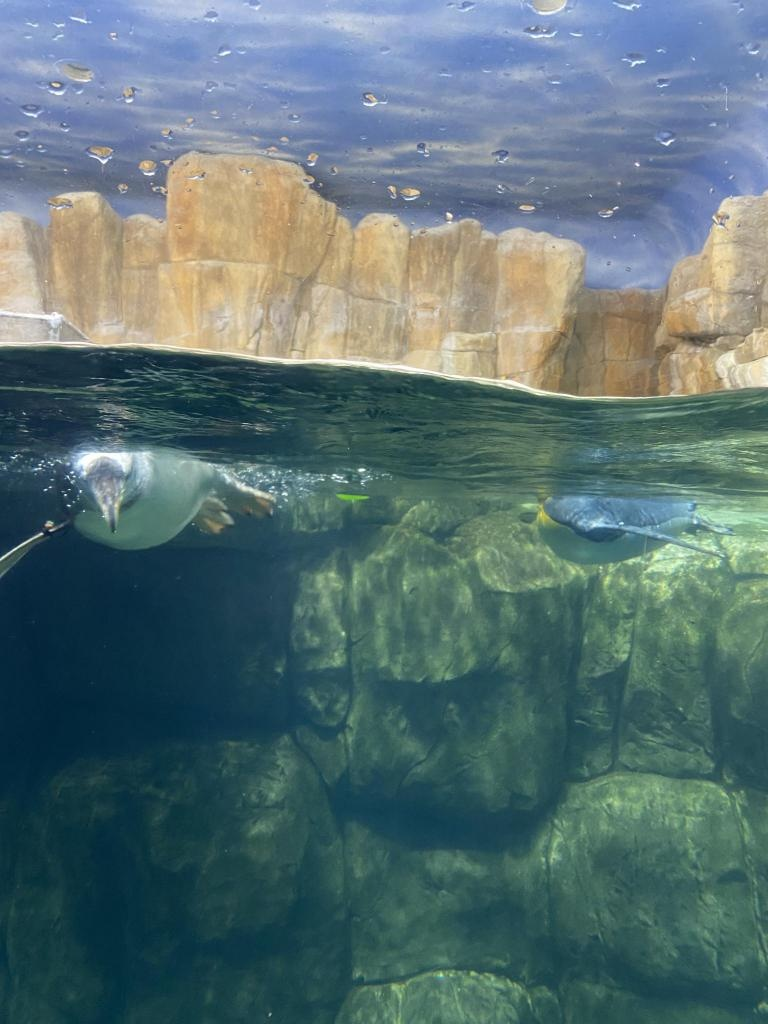penguin: (1, 445, 281, 585), (539, 500, 739, 570)
